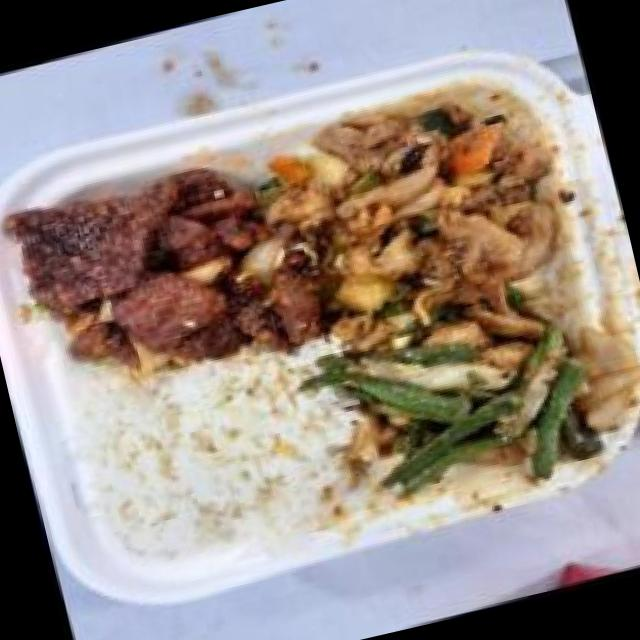Beijing Beef: (0, 132, 325, 406)
Kung Pao Chicken: (243, 55, 589, 342)
String Bean Chicken Breast: (328, 266, 620, 518)
White Steamed Rice: (60, 324, 378, 590)
